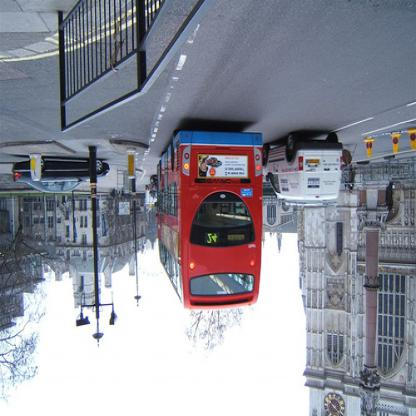bus: (154, 120, 264, 312)
car: (263, 133, 345, 203), (12, 158, 112, 195), (150, 176, 158, 202)
person: (347, 166, 357, 198)
